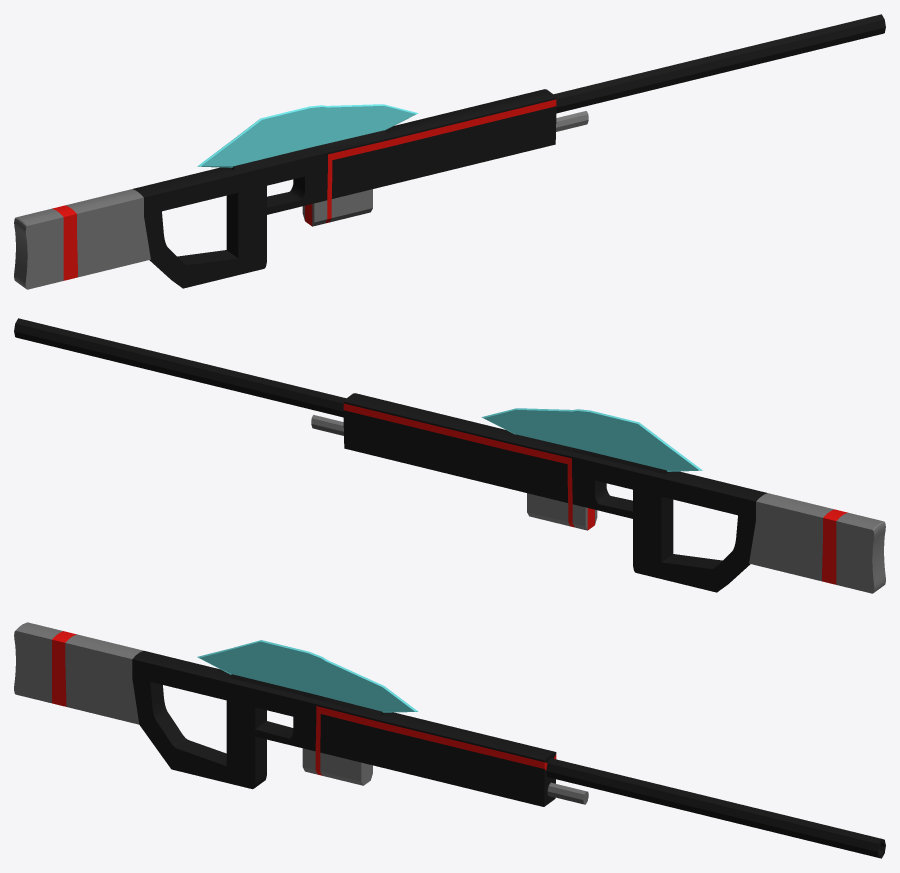
Rendered from Rifle.fbx.
The picture shows the model from 3 angles, top to bottom: view 1: azimuth 30°, elevation 25°; view 2: azimuth 150°, elevation 25°; view 3: azimuth 330°, elevation 25°; orthographic projection.
Parts seen in each view (by area): view 1: Cube; view 2: Cube; view 3: Cube.
Boxes of the visible parts, box(x1,y1,x2,y2) form: Cube: box(14, 14, 885, 289); Cube: box(14, 318, 885, 593); Cube: box(14, 622, 885, 858).
Bounding box in the file's own units: 1763 × 285 × 41.27.
